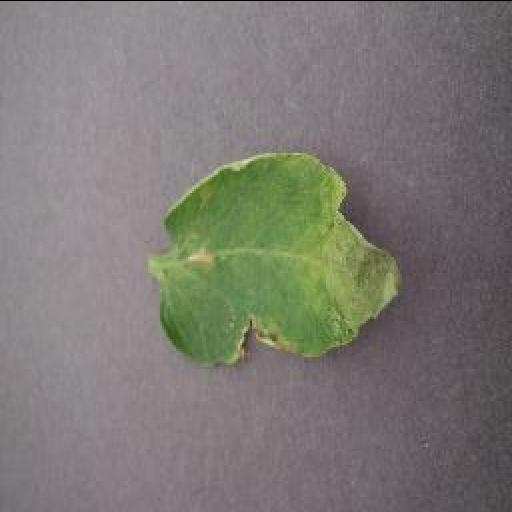disease_tomato: (156, 152, 404, 368)
